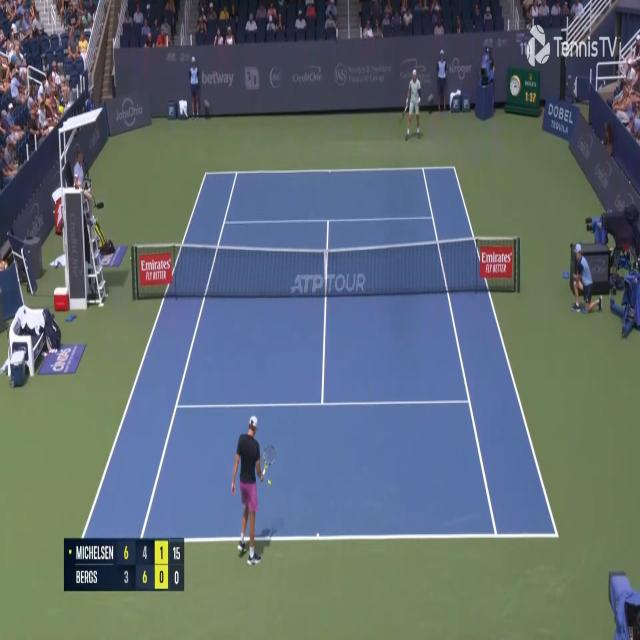tennis-player: (230, 413, 274, 568), (400, 67, 423, 140)
